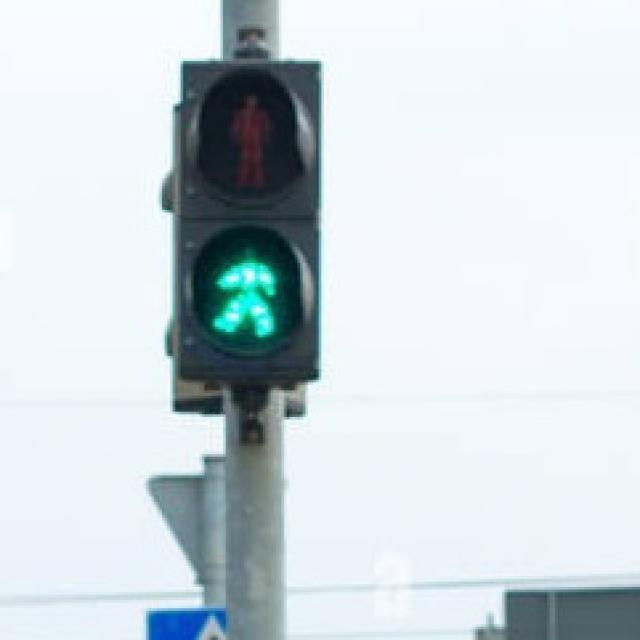geen-crossing: (199, 231, 284, 345)
